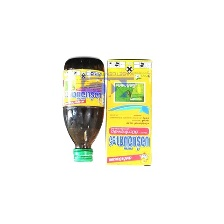carton: (103, 56, 155, 169)
insecticide: (60, 53, 107, 167)
